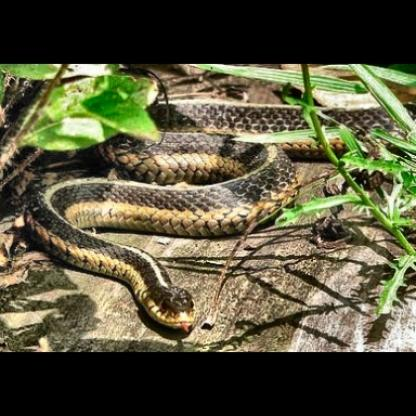Snake: (30, 93, 406, 330)
